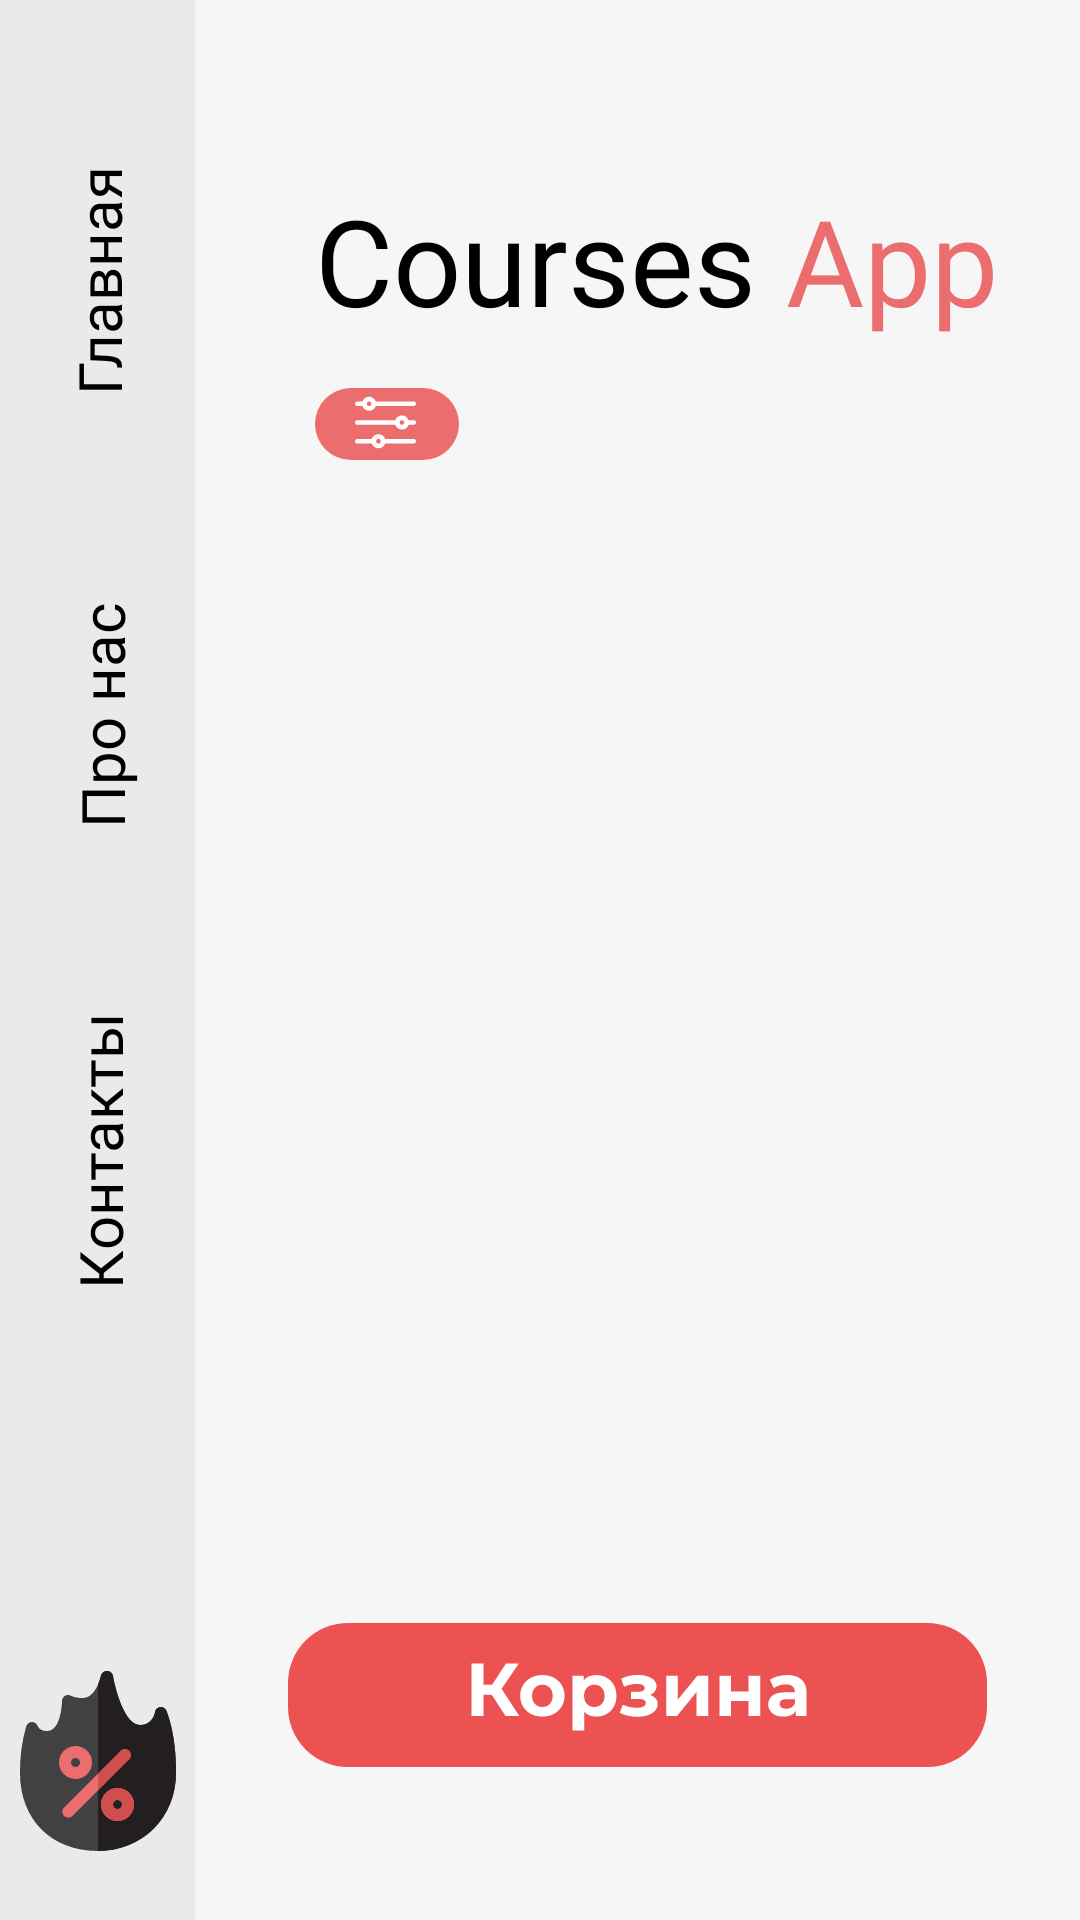

Named icons in this screenshot (1080px x 1920px) and their bounding boxes, (x1, y1, x2, y2):
Filter: (315, 388, 459, 460)
Sales: (20, 1671, 176, 1851)
